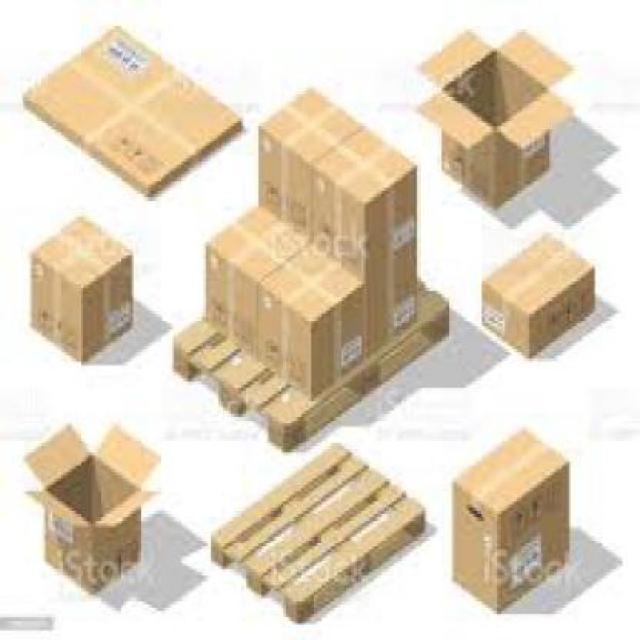box: (20, 20, 242, 198), (411, 23, 572, 205), (23, 417, 159, 592), (446, 431, 568, 612), (256, 88, 362, 243), (257, 243, 365, 392), (311, 126, 414, 272), (31, 214, 134, 360), (203, 206, 306, 346), (477, 232, 592, 352), (358, 236, 414, 346)
